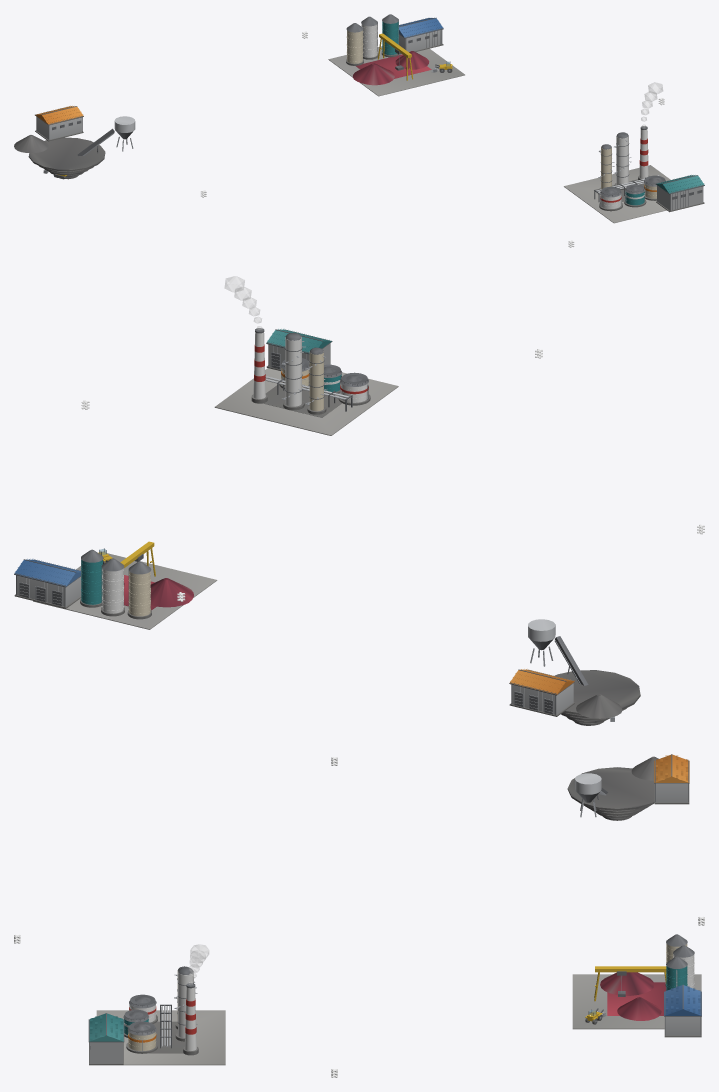
Rendered from Sites_P3.fbx.
3 views of the same model, one above another, from view 1: azimuth 30°, elevation 25°; view 2: azimuth 150°, elevation 25°; view 3: azimuth 270°, elevation 25° (orthographic). The views are drawn at different scales.
Visible parts, largest first — view 1: Site.Store.Yard, Site.Quarry.Benches, Site.Plant.Pad, Site.Plant.Hall, Site.Quarry.Shed, Site.Store.Shed, Site.Plant.Col1, Site.Store.Silo0, Site.Store.Pile0, Site.Store.Silo1, Site.Store.Silo2, Site.Plant.Tank0 (+8 smaller); view 2: Site.Plant.Pad, Site.Store.Shed, Site.Store.Yard, Site.Quarry.Shed, Site.Quarry.Benches, Site.Plant.Col1, Site.Store.Silo1, Site.Store.Silo0, Site.Plant.Hall, Site.Store.Silo2, Site.Plant.Col0, Site.Store.Pile0 (+5 smaller); view 3: Site.Plant.Pad, Site.Store.Yard, Site.Quarry.Benches, Site.Store.Shed, Site.Plant.Hall, Site.Quarry.Shed, Site.Store.Pile0, Site.Plant.Tank2, Site.Plant.Stack, Site.Plant.Col1, Site.Store.Pile1, Site.Quarry.Hopper (+3 smaller).
Part boxes in pixels (bbox=[...]): Site.Store.Yard: bbox=[328, 46, 464, 96]; Site.Quarry.Benches: bbox=[28, 137, 105, 179]; Site.Plant.Pad: bbox=[564, 165, 670, 223]; Site.Plant.Hall: bbox=[655, 175, 704, 212]; Site.Quarry.Shed: bbox=[35, 106, 83, 141]; Site.Store.Shed: bbox=[399, 17, 443, 51]; Site.Plant.Col1: bbox=[614, 132, 631, 189]; Site.Store.Silo0: bbox=[346, 23, 363, 65]; Site.Store.Pile0: bbox=[352, 63, 394, 85]; Site.Store.Silo1: bbox=[361, 16, 378, 59]; Site.Store.Silo2: bbox=[381, 14, 398, 57]; Site.Plant.Tank0: bbox=[599, 186, 622, 211]; Site.Plant.Pad: bbox=[214, 368, 398, 435]; Site.Store.Shed: bbox=[14, 559, 81, 608]; Site.Store.Yard: bbox=[33, 553, 217, 629]; Site.Quarry.Shed: bbox=[509, 669, 575, 716]; Site.Quarry.Benches: bbox=[554, 670, 640, 725]; Site.Plant.Col1: bbox=[281, 332, 305, 410]; Site.Store.Silo1: bbox=[101, 558, 124, 616]; Site.Store.Silo0: bbox=[127, 561, 151, 619]; Site.Plant.Hall: bbox=[266, 329, 332, 370]; Site.Store.Silo2: bbox=[80, 549, 103, 607]; Site.Plant.Col0: bbox=[305, 347, 327, 414]; Site.Store.Pile0: bbox=[150, 578, 193, 607]; Site.Plant.Pad: bbox=[96, 1010, 225, 1065]; Site.Store.Yard: bbox=[572, 974, 701, 1029]; Site.Quarry.Benches: bbox=[567, 767, 654, 820]; Site.Store.Shed: bbox=[664, 984, 701, 1037]; Site.Plant.Hall: bbox=[88, 1013, 124, 1065]; Site.Quarry.Shed: bbox=[654, 754, 689, 804]; Site.Store.Pile0: bbox=[600, 972, 654, 995]; Site.Plant.Tank2: bbox=[126, 1021, 157, 1053]; Site.Plant.Stack: bbox=[183, 983, 198, 1055]; Site.Plant.Col1: bbox=[174, 967, 197, 1041]; Site.Store.Pile1: bbox=[617, 997, 661, 1020]; Site.Quarry.Hopper: bbox=[575, 773, 601, 817].
Bounding box in the file's own units: 31338 × 6102 × 27869.
